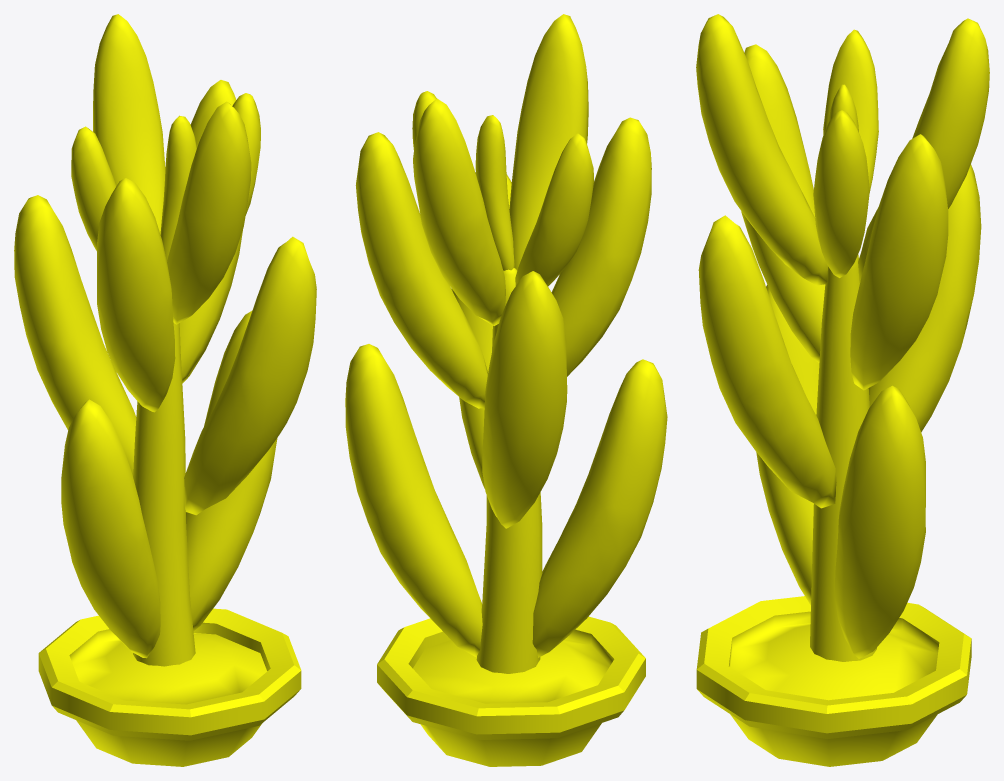
3 views of the same model, side by side, from view 1: azimuth 30°, elevation 25°; view 2: azimuth 150°, elevation 25°; view 3: azimuth 270°, elevation 25° (orthographic). The views are drawn at different scales.
Parts seen in each view (by area): view 1: Plant_04; view 2: Plant_04; view 3: Plant_04.
Part boxes in pixels (x1,y1,x2,y2): Plant_04: (14,14,316,766); Plant_04: (345,14,667,766); Plant_04: (696,14,989,766).
Bounding box in the file's own units: 0.012 × 0.0296 × 0.011.
1 material, 1 textured.
